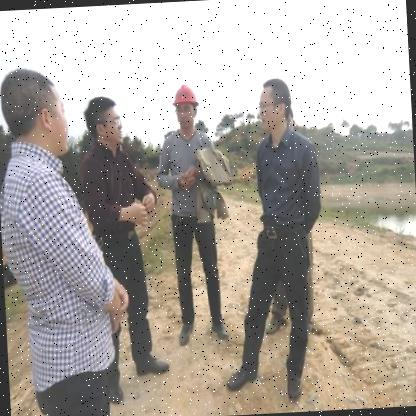capacete: (171, 82, 200, 128)
sem_capacete: (28, 66, 75, 160), (81, 91, 127, 148), (254, 74, 294, 136)
sem_colete_refletivo: (16, 146, 126, 308), (77, 145, 158, 234), (252, 129, 323, 229), (154, 127, 218, 216)
